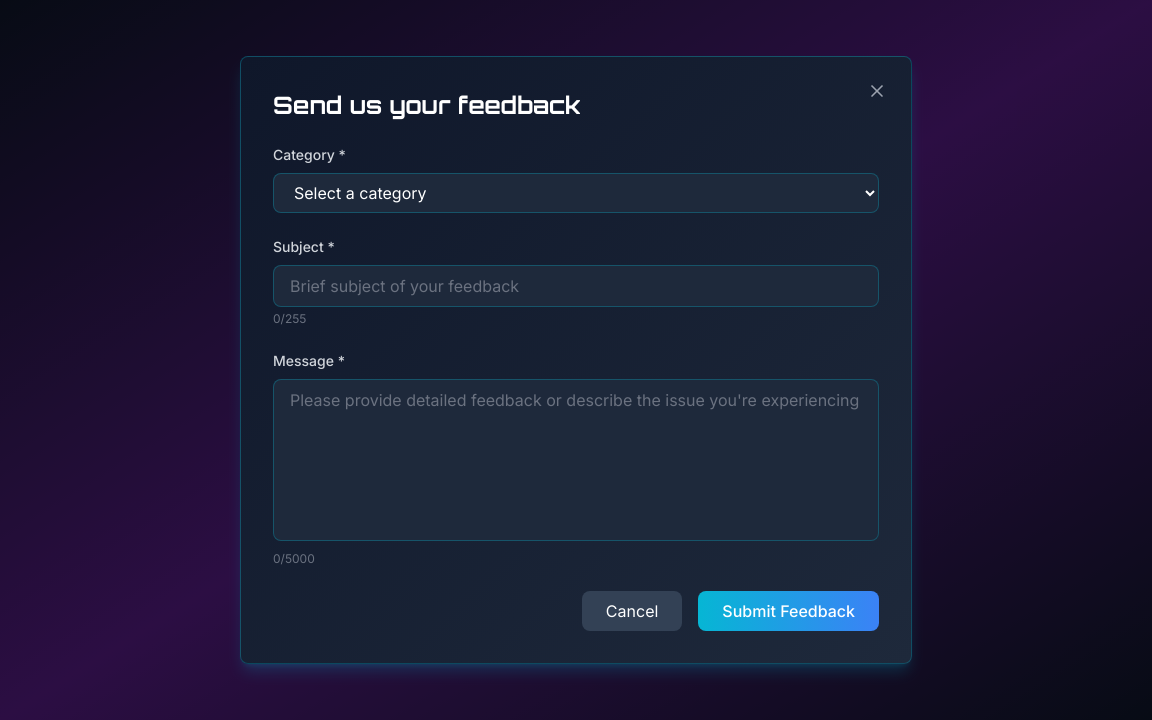
it: FeedbackForm › should validate required fields
# Try to submit without filling form
Click the button "Submit Feedback": (789, 611) [698,591,879,631]
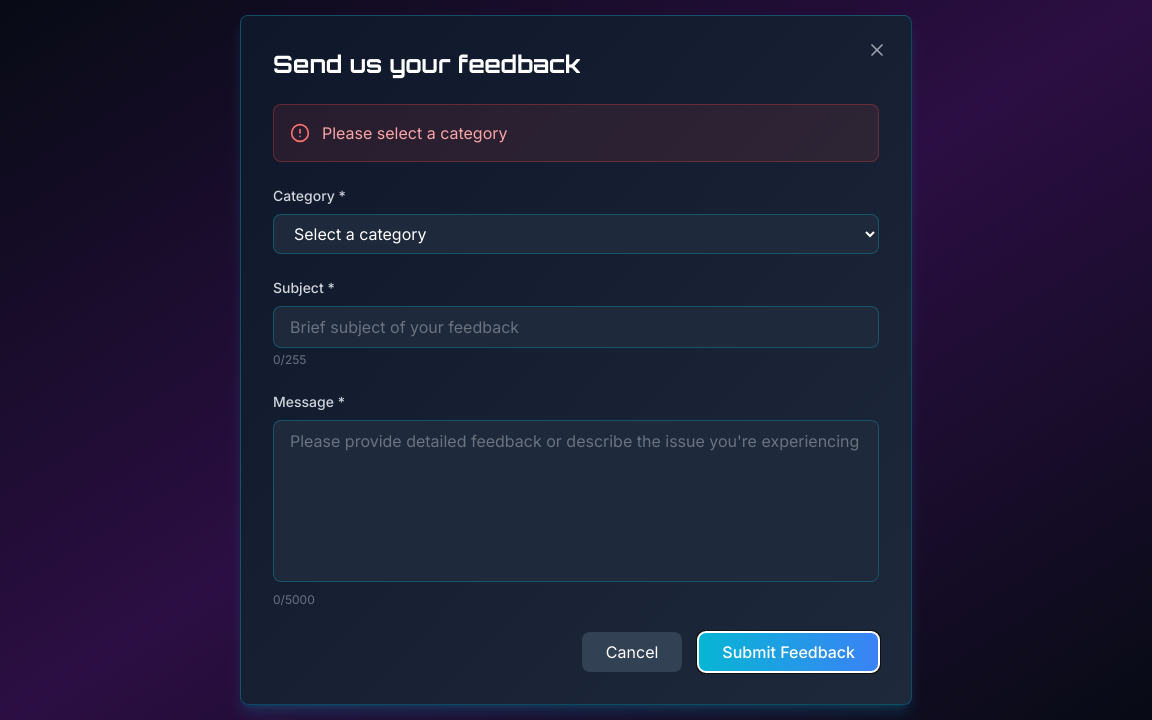
Now the text "Please select a category" is shown, box [322,121,508,145]
